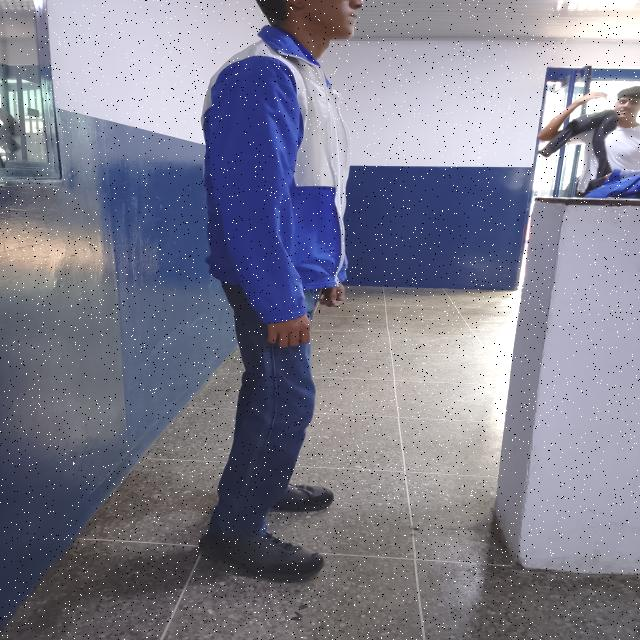chaqueta_unefa: (200, 24, 352, 324)
